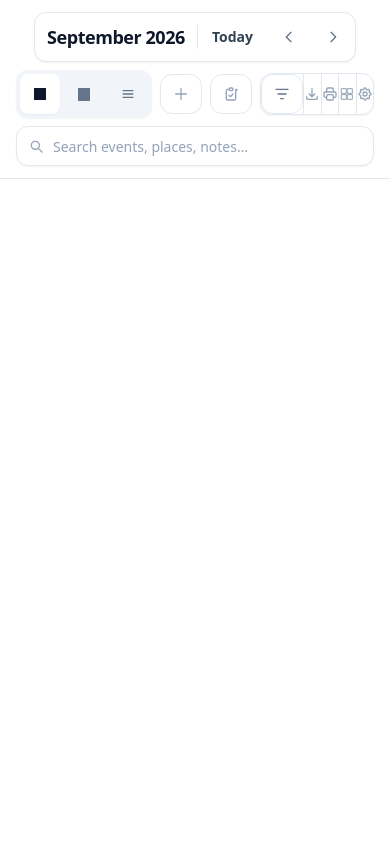
CalendarToolbar — by person is a filter inside the Filters sheet (#127, mark 1.11) › says so when there is nobody to filter by, rather than rendering nothing
This screenshot has width=390, height=844.
Click the button with test id "calendar-filter-trigger": [282, 94] box [261,74,303,114]
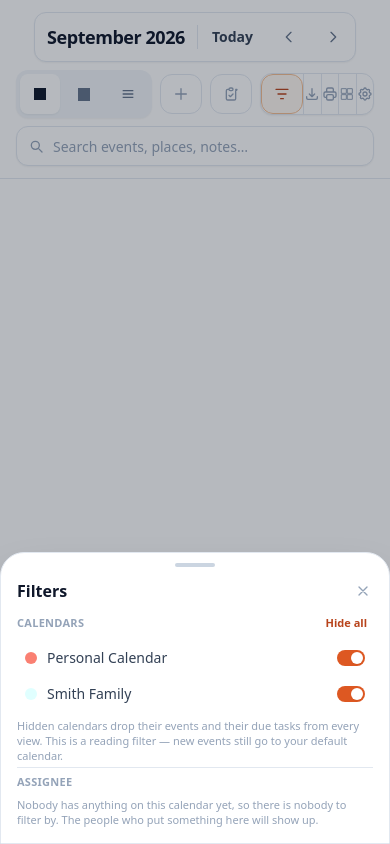
Now the text with test id "assignee-nobody" shows "Nobody", box [17,797,346,827]
